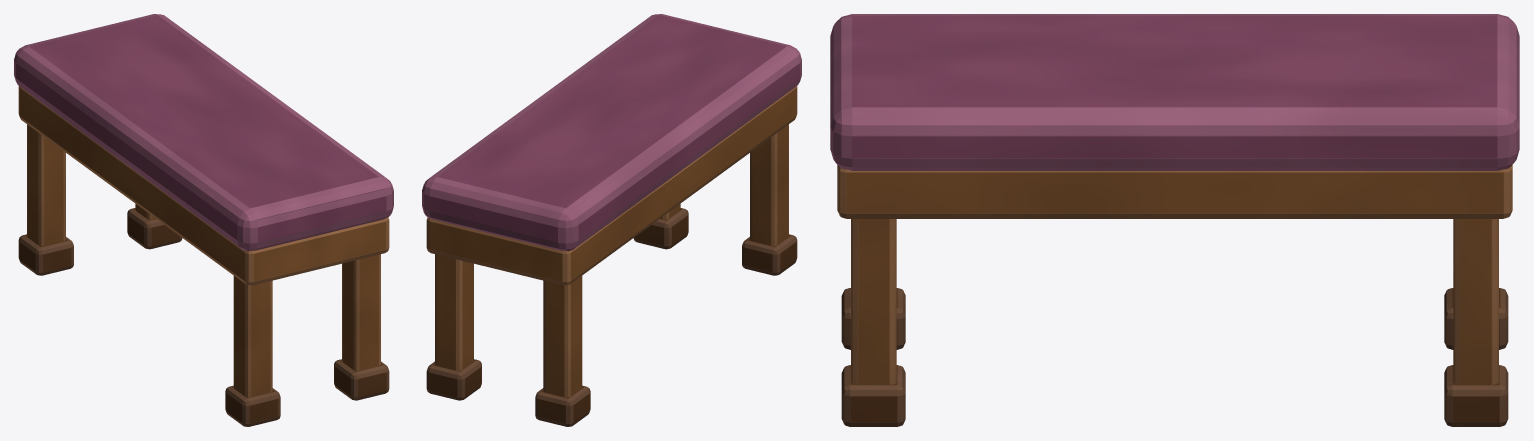
The model's file is 07_Piano_Bench.fbx.
The picture shows the model from 3 angles, left to right: view 1: azimuth 30°, elevation 25°; view 2: azimuth 150°, elevation 25°; view 3: azimuth 270°, elevation 25°; orthographic projection. The views are drawn at different scales.
Parts seen in each view (by area): view 1: 07_Piano_Bench; view 2: 07_Piano_Bench; view 3: 07_Piano_Bench.
Part boxes in pixels (x1,y1,x2,y2): 07_Piano_Bench: (14,14,393,426); 07_Piano_Bench: (422,14,801,426); 07_Piano_Bench: (830,14,1519,426).
Bounding box in the file's own units: 57 × 76.5 × 151.
Materials: 1 (1 with a texture image).
